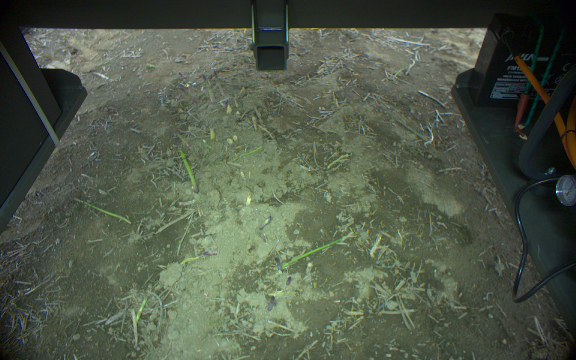aspa: (283, 232, 350, 268), (73, 197, 131, 223), (178, 147, 197, 193), (134, 285, 151, 323), (212, 68, 227, 97), (202, 73, 214, 103), (261, 293, 275, 311), (273, 253, 282, 273), (283, 273, 291, 287)
